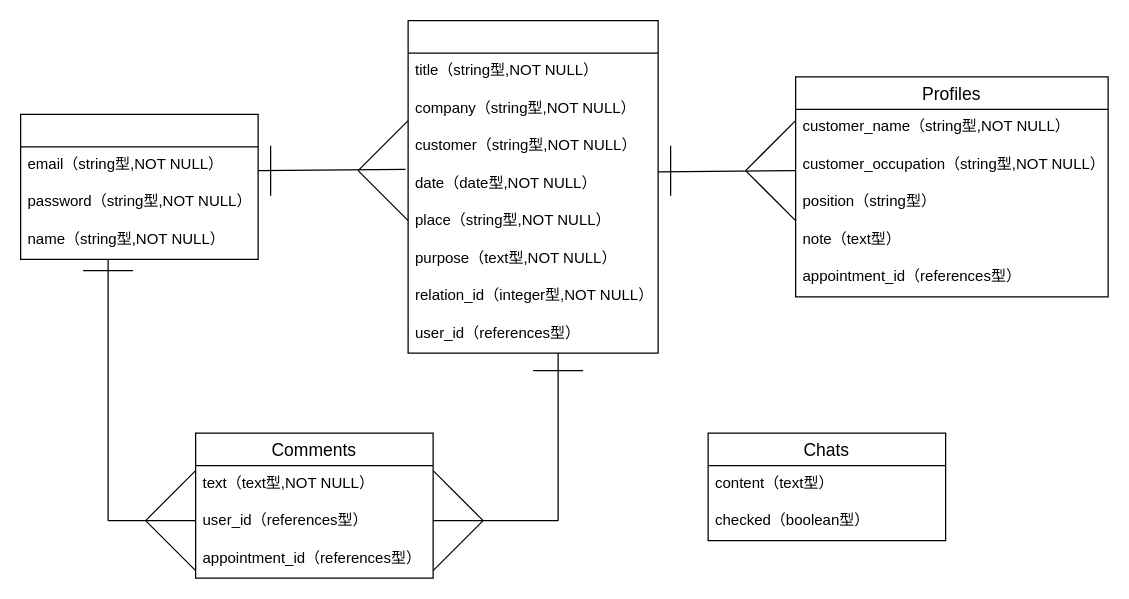
Some shapes in this 1129 by 599 pixel diagram are drawn without their labels. Here are the shapes that lost their labels. From the top down, the box of each, then its label:
(19, 113, 258, 259): Users
(407, 19, 658, 353): Appointments
